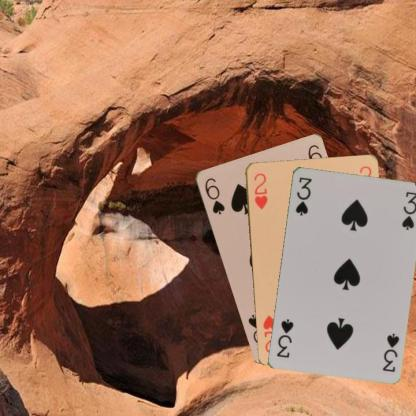2h: (251, 170, 269, 210)
3s: (292, 174, 312, 217), (380, 330, 400, 373)
6s: (202, 175, 226, 216)
